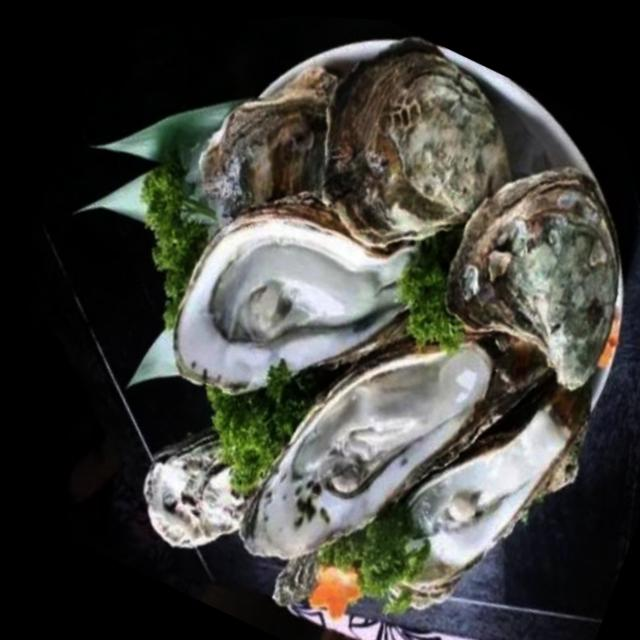Oyster-Indeterminate: (292, 22, 531, 262), (418, 154, 640, 405), (176, 52, 375, 238)
Oyster-Open: (196, 312, 535, 580), (141, 170, 449, 413), (341, 376, 630, 626), (129, 416, 295, 561)
